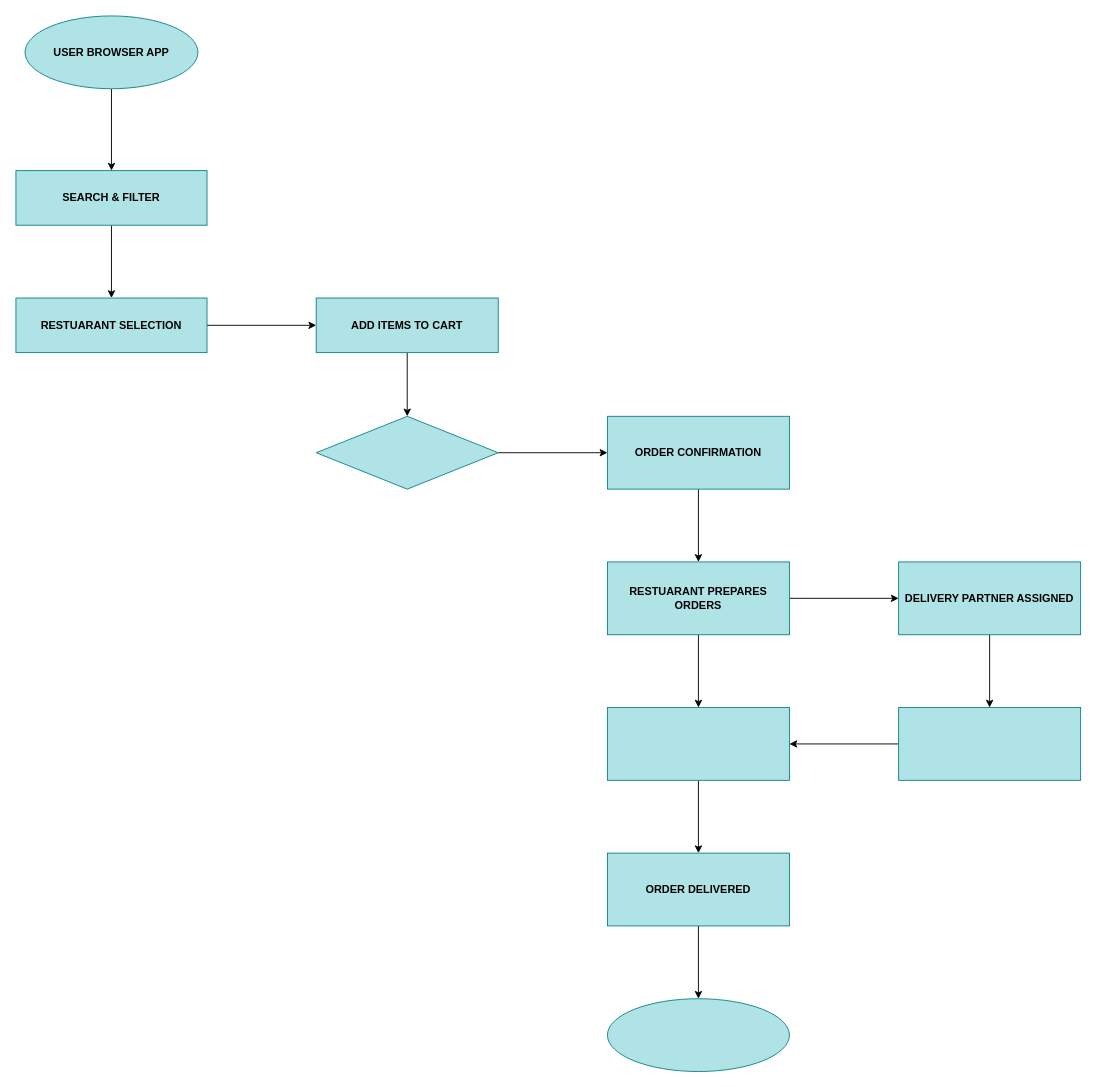
Some shapes in this 1097 by 1087 pixel diagram are drawn without their labels. The centre of each missing label's shape, as x and y in pixels:
"LIVE TRACKING" belongs at [989,743].
"ORDER PICKUP" belongs at [698,743].
"PAYMENT PROCESSING" belongs at [406,452].
"RATING & FEEDBACK" belongs at [698,1035].
